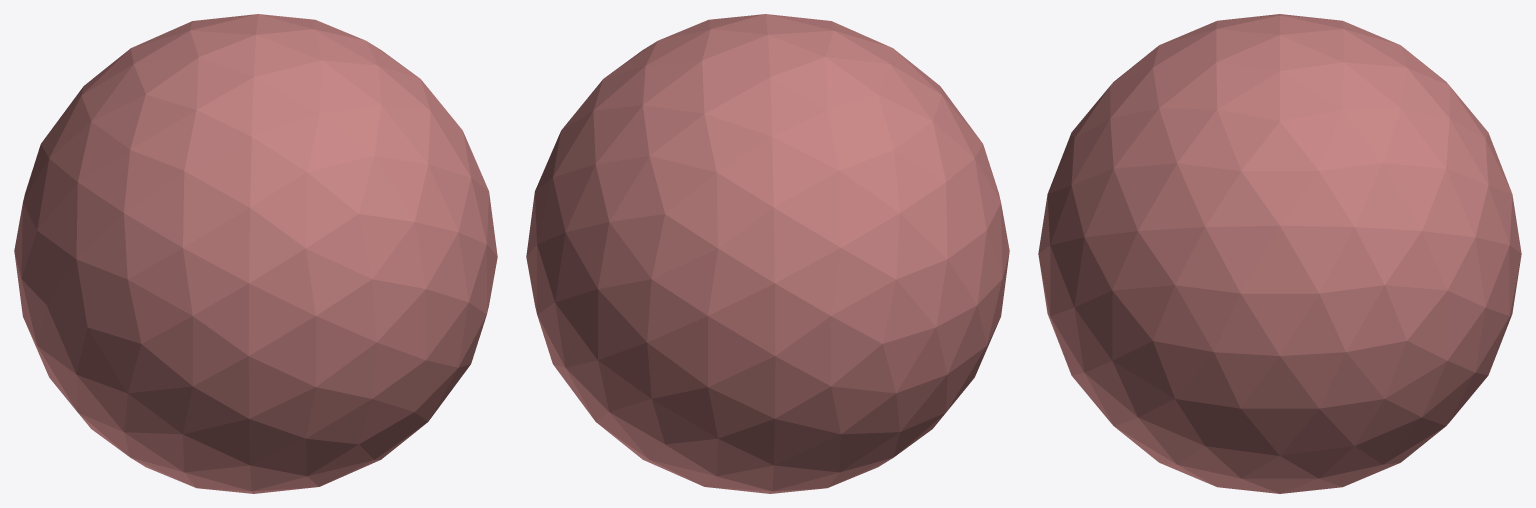
3 views of the same model, side by side, from view 1: azimuth 30°, elevation 25°; view 2: azimuth 150°, elevation 25°; view 3: azimuth 270°, elevation 25° (orthographic).
Visible parts, largest first — view 1: world; view 2: world; view 3: world.
Part boxes in pixels (left/top/right/bottom): world: left=14, top=14, right=497, bottom=493; world: left=526, top=14, right=1009, bottom=493; world: left=1038, top=14, right=1521, bottom=493.
Bounding box in the file's own units: 2 × 2 × 2.
